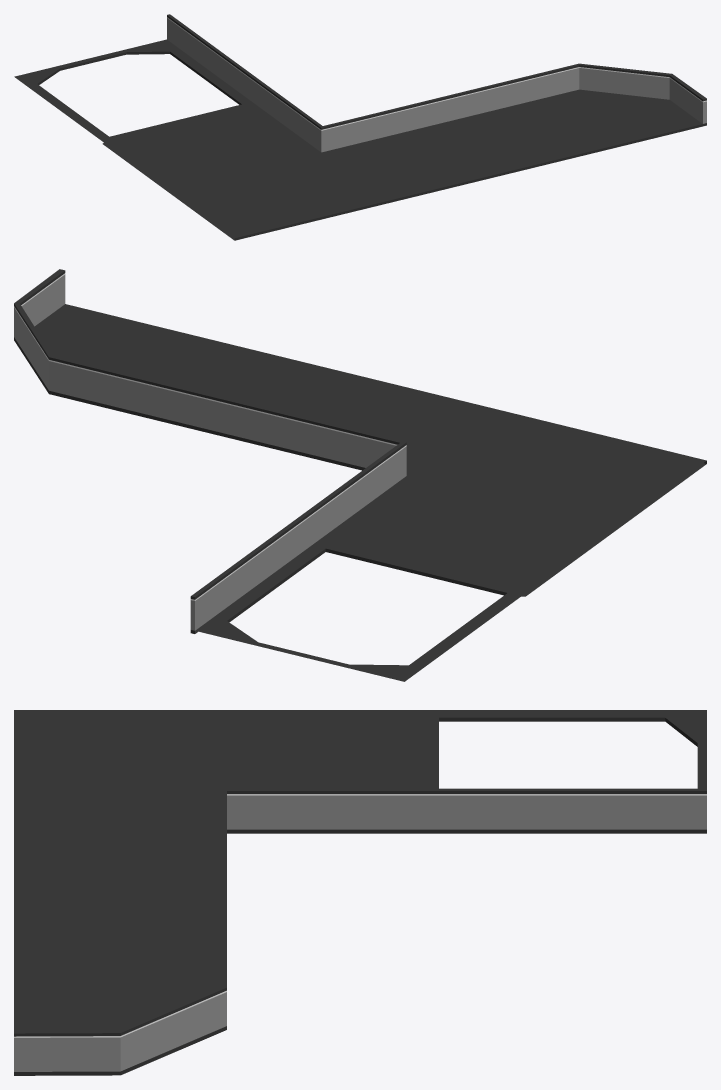
The model's file is Storage_Floor_Level_02.fbx.
3 renders of one model, top to bottom at view 1: azimuth 30°, elevation 25°; view 2: azimuth 150°, elevation 25°; view 3: azimuth 270°, elevation 25°, orthographic. The views are drawn at different scales.
Visible parts, largest first — view 1: Storage_Floor_Level_02; view 2: Storage_Floor_Level_02; view 3: Storage_Floor_Level_02.
Part boxes in pixels (x1,y1,x2,y2): Storage_Floor_Level_02: [14, 14, 706, 240]; Storage_Floor_Level_02: [14, 269, 706, 681]; Storage_Floor_Level_02: [14, 710, 706, 1075].
Bounding box in the file's own units: 49.43 × 2.7 × 40.
